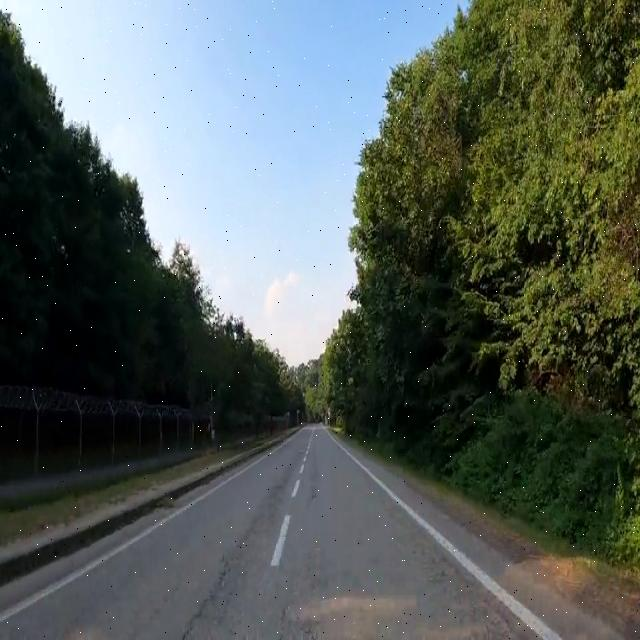lane: (327, 431, 561, 639), (0, 470, 246, 623), (271, 516, 289, 567), (291, 480, 299, 497)
